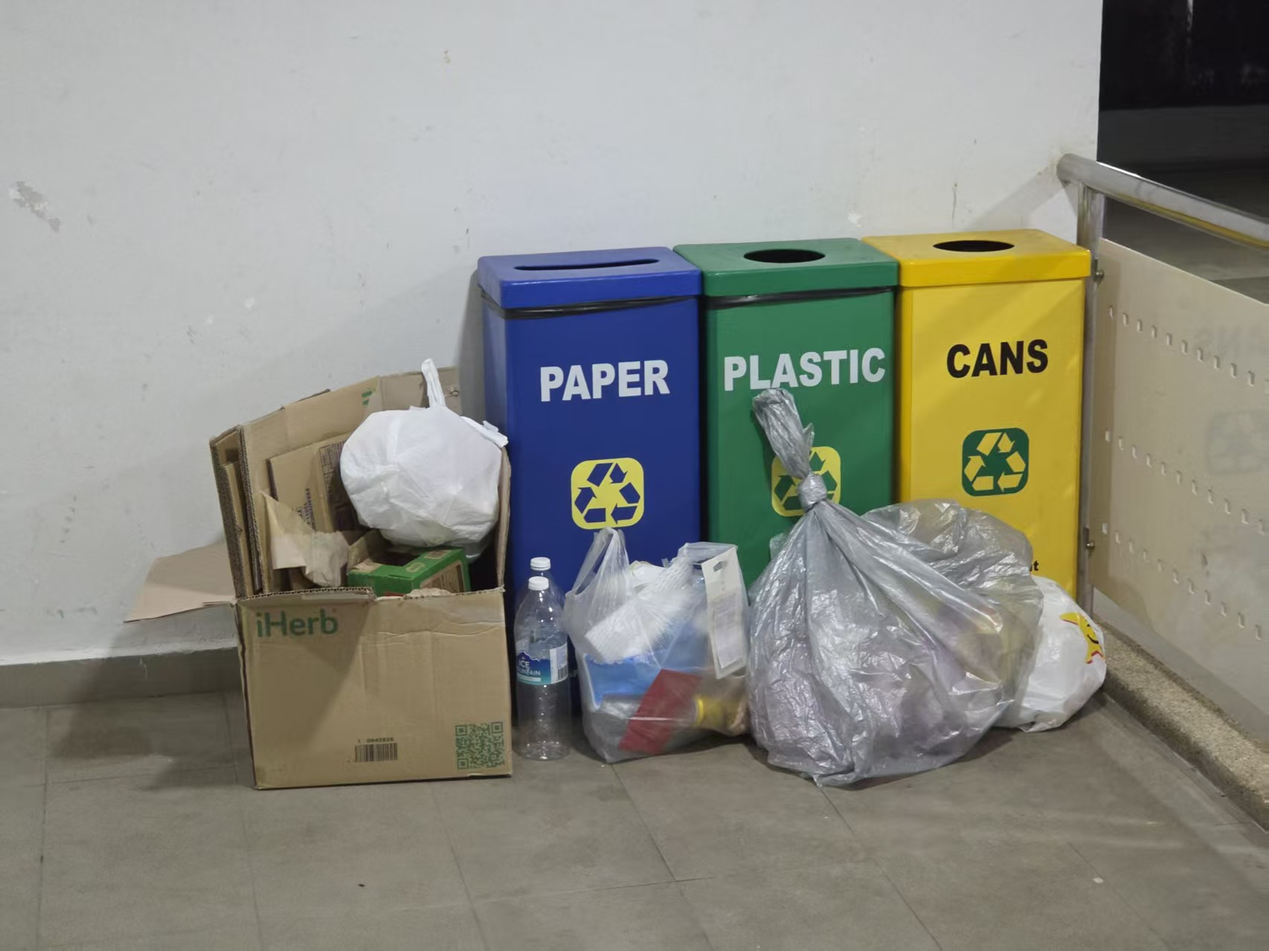bin_empty: (866, 230, 1091, 593), (673, 238, 897, 583), (478, 246, 702, 590)
bulk_waste: (126, 540, 513, 788), (211, 373, 428, 597), (347, 530, 472, 596), (488, 451, 511, 581)
normal_waste: (747, 388, 1042, 786), (564, 528, 747, 762), (340, 359, 507, 555), (997, 576, 1105, 731), (514, 574, 571, 760), (529, 556, 562, 606), (515, 592, 528, 610)
